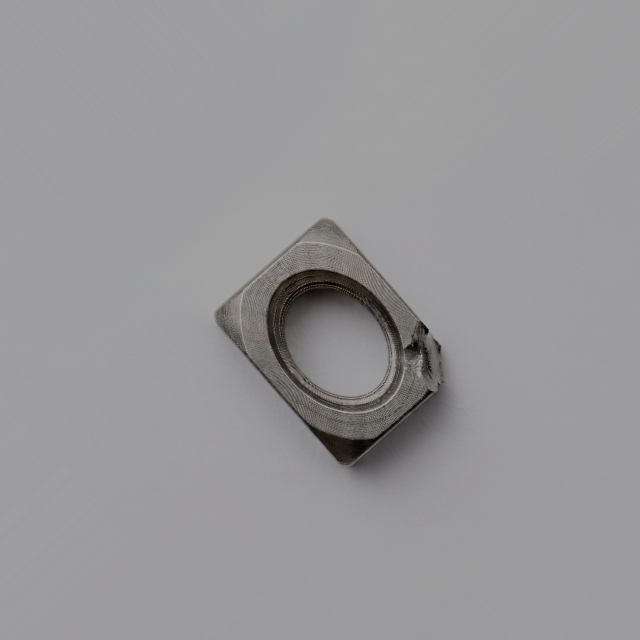defect: (396, 311, 450, 401)
